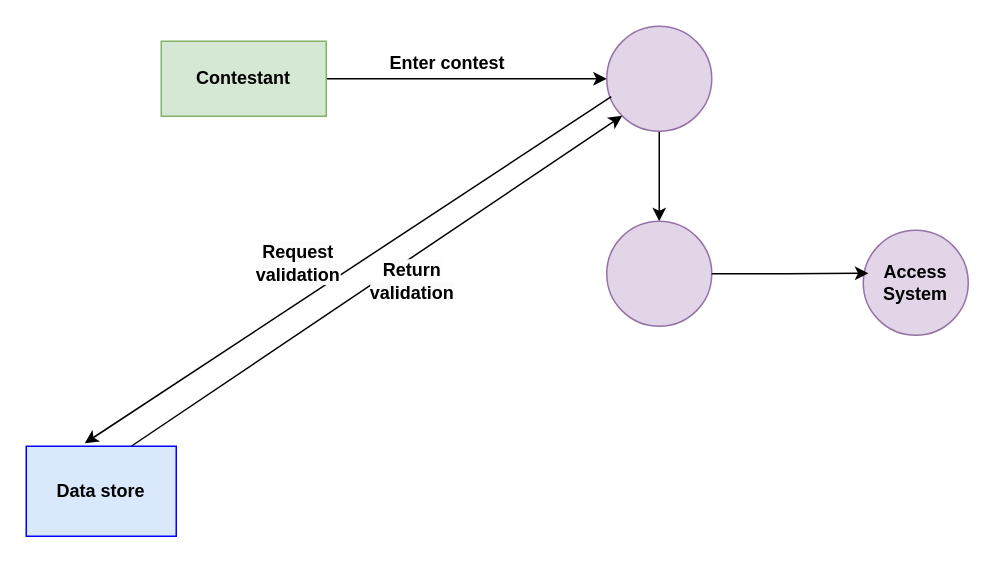
Some shapes in this 995 by 563 pixel diagram are drawn without their labels. The box of each missing label's shape, as (x1, y1, x2, y2) in pixels:
Login: (605, 220, 712, 326)
Validate details: (605, 25, 712, 131)
